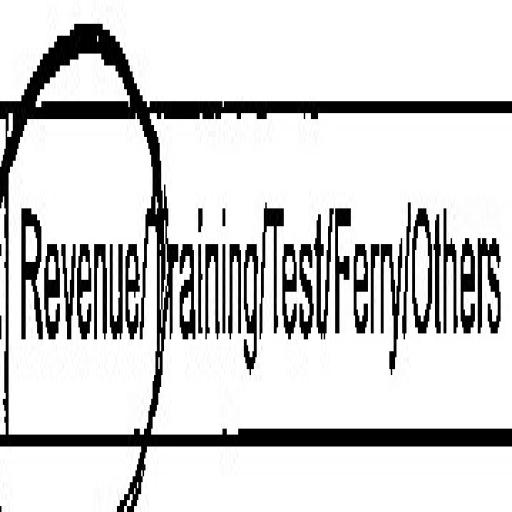check: (2, 0, 154, 512)
